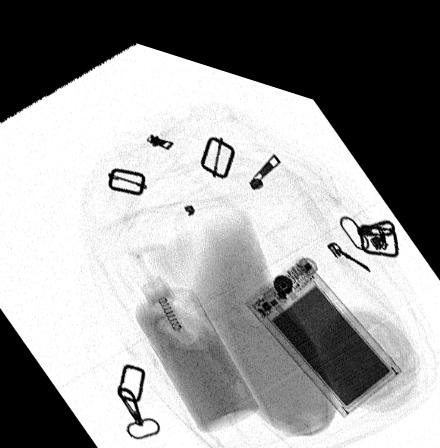Powerbank: (243, 234, 402, 394)
